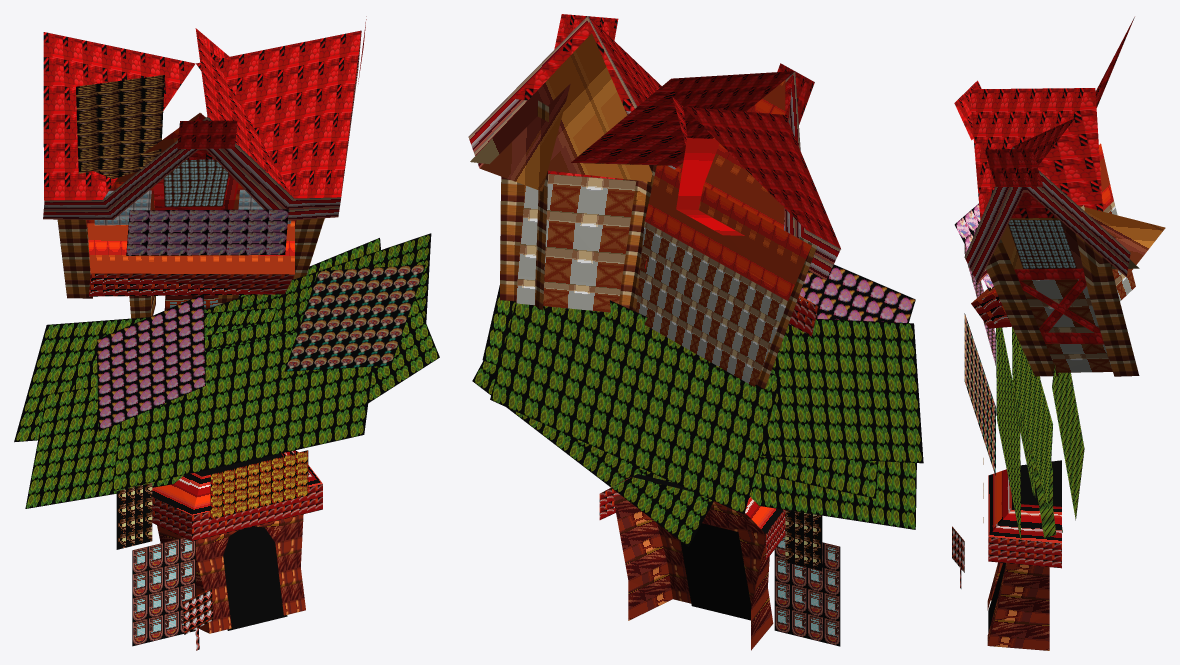
File: tp_log00.gltf
The picture shows the model from 3 angles, left to right: view 1: azimuth 30°, elevation 25°; view 2: azimuth 150°, elevation 25°; view 3: azimuth 270°, elevation 25°; orthographic projection. The views are drawn at different scales.
Visible parts, largest first — view 1: tp_log00; view 2: tp_log00; view 3: tp_log00.
Boxes of the visible parts, box(x1,y1,x2,y2) form: tp_log00: box(14, 16, 439, 650); tp_log00: box(468, 14, 923, 650); tp_log00: box(952, 17, 1165, 650).
Size of the model in its own units: 5.78 by 7.31 by 2.59.
Materials: 20 (20 with a texture image).
